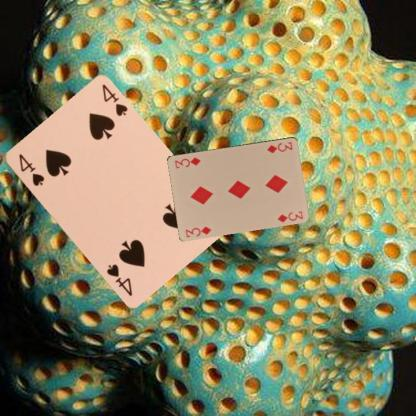3d: (183, 224, 213, 238), (265, 140, 294, 154)
4s: (16, 151, 46, 188)
